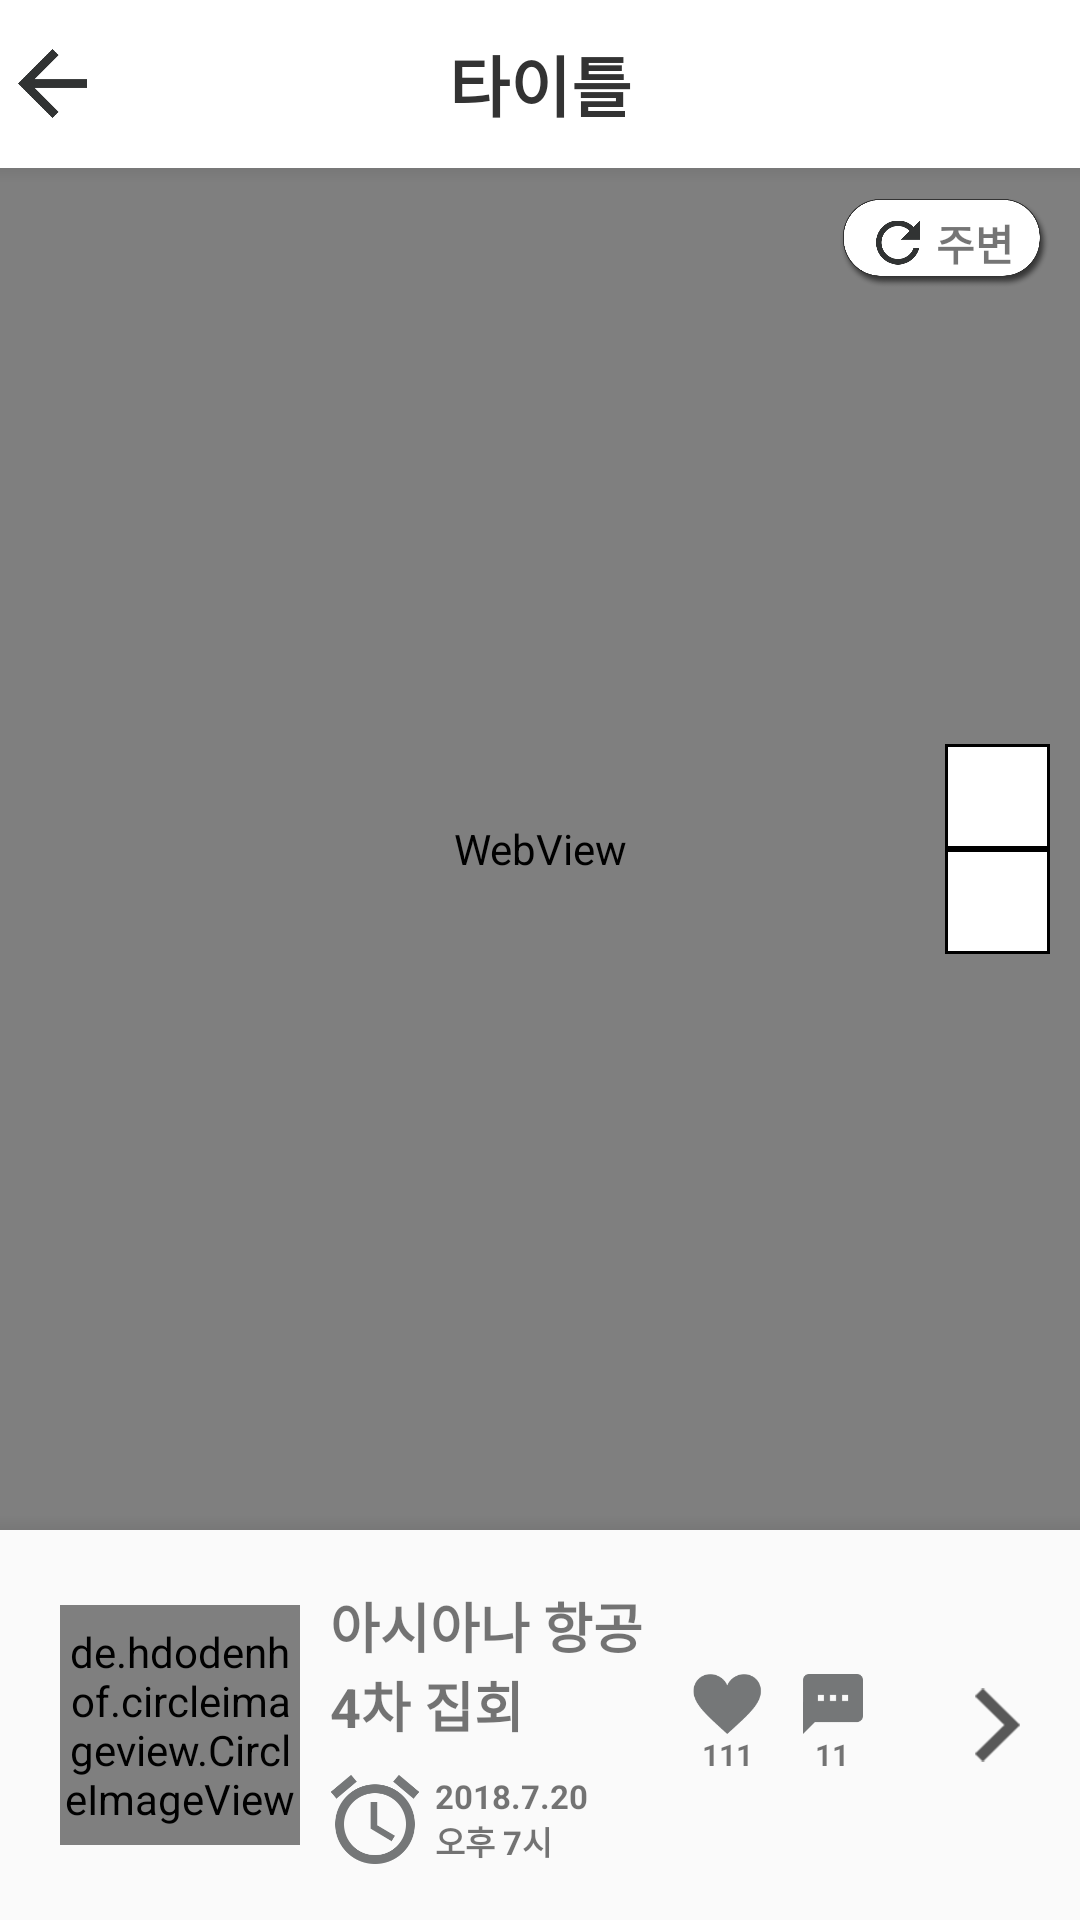

Icons on this 1080×1920 Android screen, each with the point to tap as [x,y]:
arrow: [997,1725]
back: [52,83]
comment: [833,1704]
heart: [727,1704]
refresh: [898,243]
timer: [375,1819]
